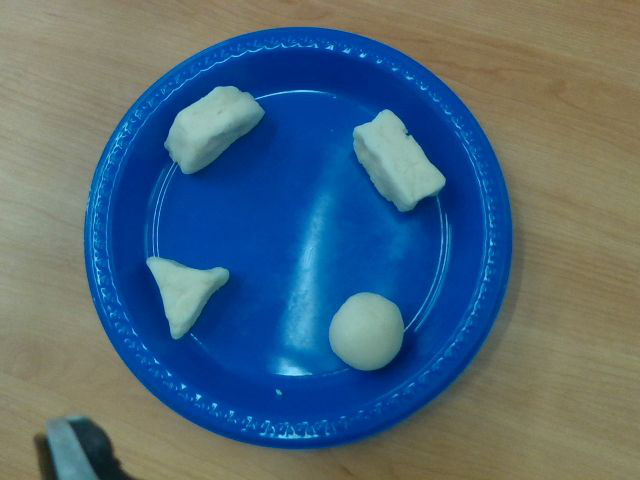mashed_potato: (354, 110, 445, 211), (164, 87, 264, 173), (146, 257, 230, 339), (329, 292, 403, 371)
